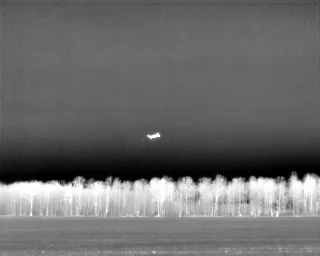DRONE: (142, 127, 167, 146)
